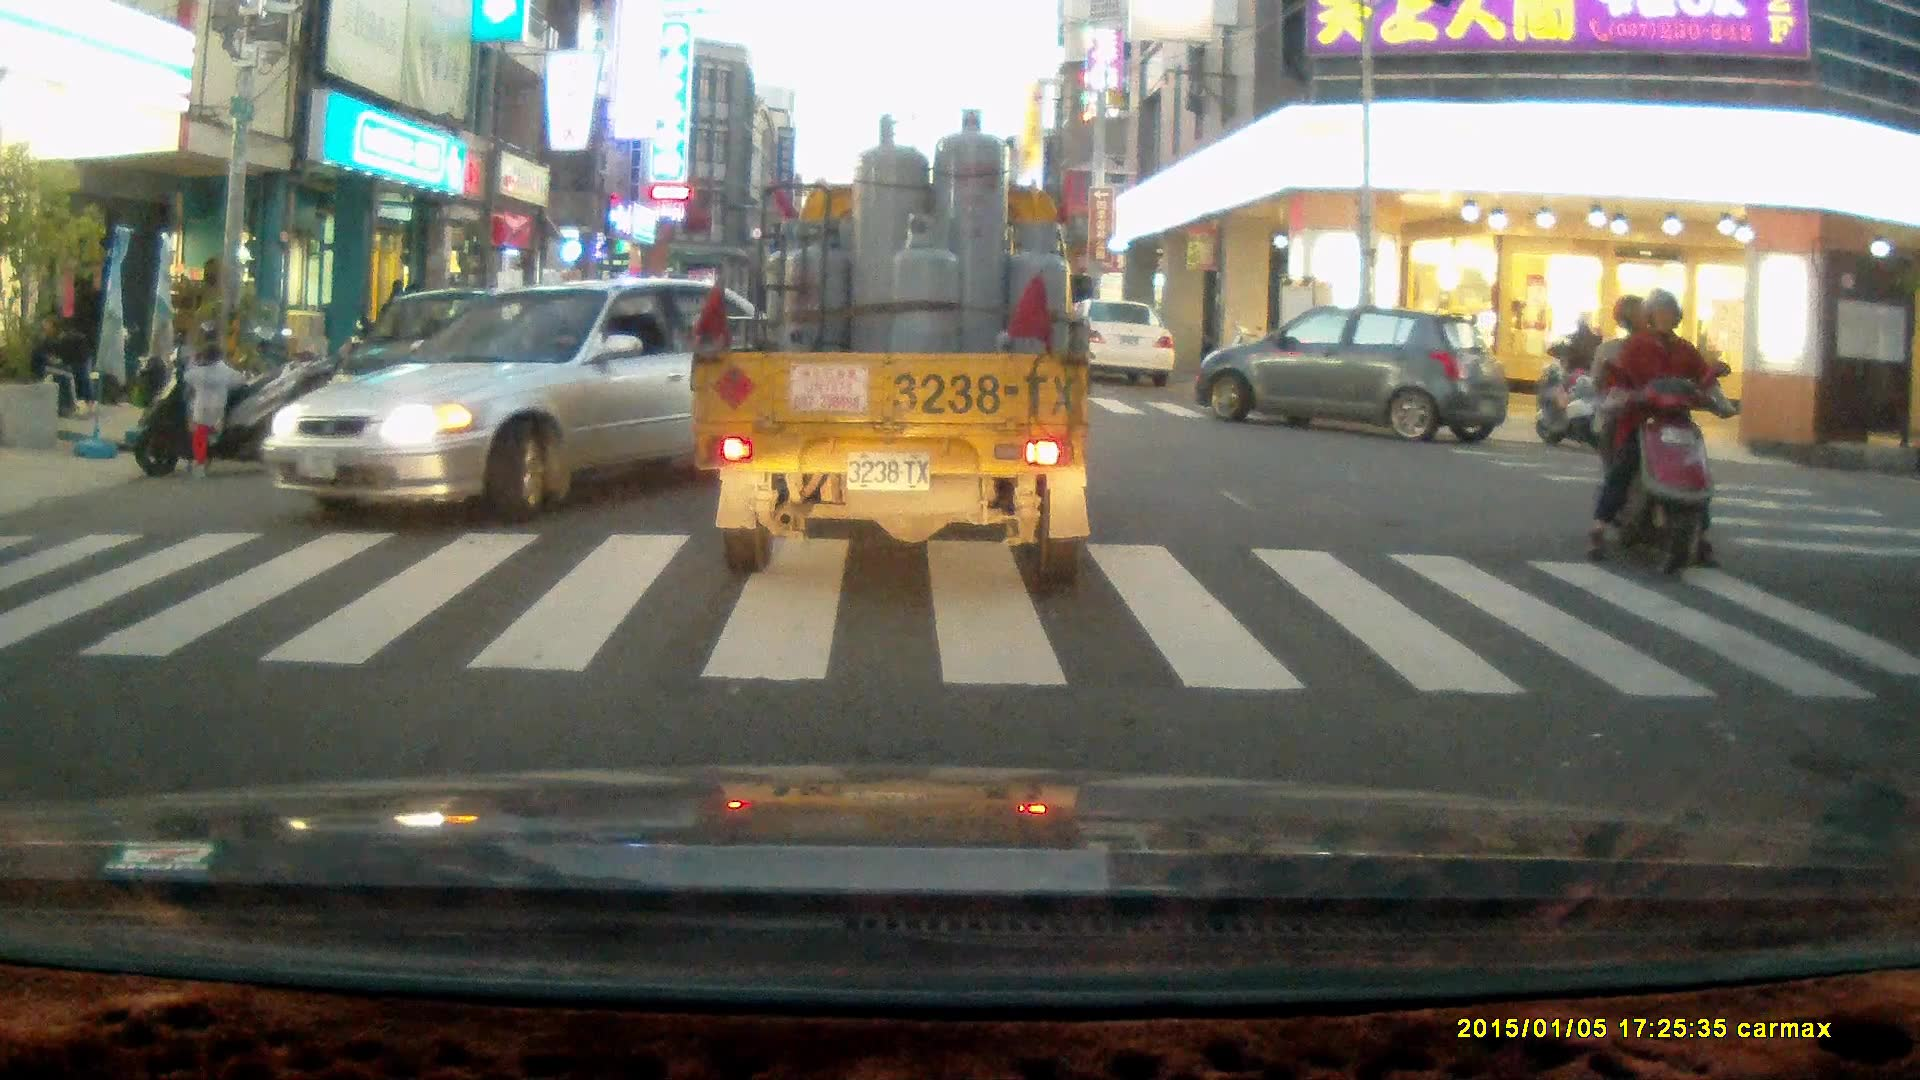pedestrian: (181, 341, 249, 480)
rider: (1580, 287, 1730, 578), (1541, 308, 1618, 430)
vehicle: (687, 108, 1092, 593), (265, 277, 817, 528), (1195, 306, 1506, 444), (1060, 299, 1184, 382)
